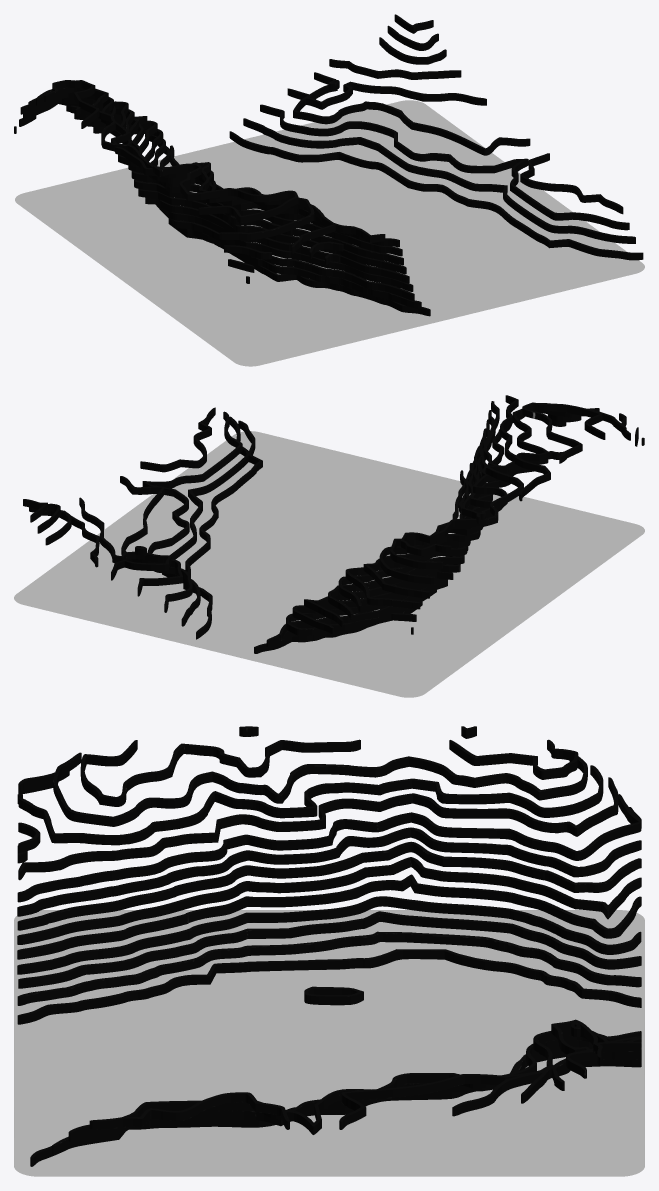
The model's file is Hoogtekaart_Namen.glb.
3 renders of one model, top to bottom at view 1: azimuth 30°, elevation 25°; view 2: azimuth 150°, elevation 25°; view 3: azimuth 270°, elevation 25°, orthographic. The views are drawn at different scales.
Visible parts, largest first — view 1: node_id4; view 2: node_id4; view 3: node_id4.
Boxes of the visible parts, x1,y1,x2,y2 form: node_id4: (14,14,644,366); node_id4: (14,395,644,697); node_id4: (14,726,644,1176).
Size of the model in its own units: 0.512 by 0.1639 by 0.5107.
Materials: 1 (1 with a texture image).
